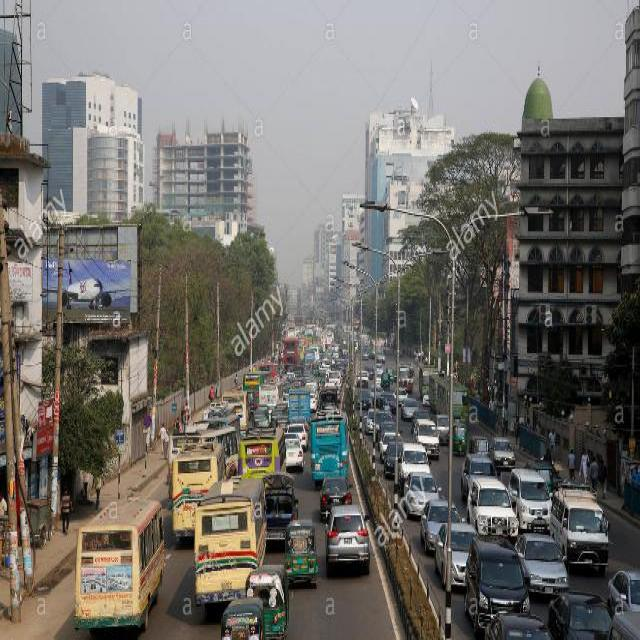vehicle: (74, 493, 163, 628), (194, 478, 269, 601), (465, 532, 531, 634), (550, 481, 611, 574), (171, 441, 226, 539), (169, 418, 238, 475), (435, 519, 481, 591), (325, 504, 370, 576), (516, 530, 571, 588), (467, 476, 521, 534), (549, 588, 612, 637), (247, 562, 289, 634), (508, 466, 553, 532), (311, 406, 349, 484), (266, 473, 300, 549), (420, 498, 467, 551), (239, 426, 286, 474), (286, 518, 318, 585), (461, 450, 501, 498), (485, 609, 553, 637), (405, 469, 442, 517), (221, 595, 265, 633), (397, 440, 432, 486), (608, 565, 640, 609), (438, 379, 469, 424), (320, 472, 353, 514), (414, 416, 441, 456), (221, 388, 250, 424), (525, 458, 564, 483), (430, 372, 455, 411), (194, 407, 242, 426), (244, 369, 271, 399), (492, 436, 517, 466), (379, 429, 403, 459), (419, 362, 439, 398), (385, 438, 403, 476), (288, 386, 310, 417), (530, 460, 553, 487), (259, 377, 284, 400), (285, 437, 303, 468), (288, 422, 309, 447), (283, 335, 299, 367), (452, 420, 466, 455), (399, 361, 414, 392), (203, 399, 236, 413), (320, 385, 338, 407), (401, 395, 421, 414), (470, 433, 490, 451), (358, 387, 373, 408), (366, 405, 378, 431), (393, 386, 409, 403), (290, 415, 310, 427), (260, 362, 280, 374), (370, 339, 382, 357), (357, 370, 370, 386), (328, 371, 342, 383), (276, 414, 289, 426), (311, 392, 319, 411), (382, 370, 391, 386), (304, 348, 316, 360), (251, 412, 267, 421), (382, 371, 390, 388), (358, 331, 368, 344), (386, 366, 394, 381), (376, 348, 386, 360), (386, 368, 394, 383), (365, 365, 374, 377), (362, 344, 369, 358), (325, 330, 333, 342), (289, 325, 302, 332), (319, 364, 332, 371), (376, 363, 383, 375), (306, 382, 318, 389), (305, 326, 314, 334), (254, 399, 268, 404), (354, 320, 359, 329), (287, 371, 295, 376)
